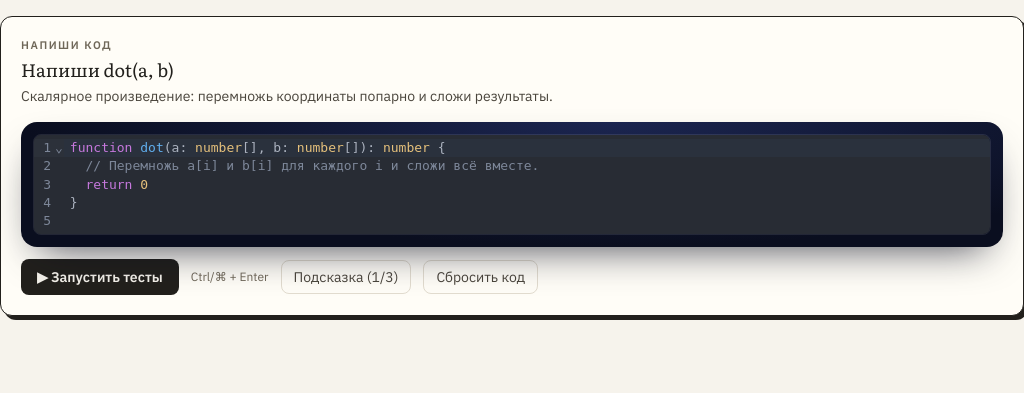
CodeExercise › explains a timeout as a probable infinite loop
Click the button "▶ Запустить тесты": x=100, y=277 [21, 259, 179, 295]
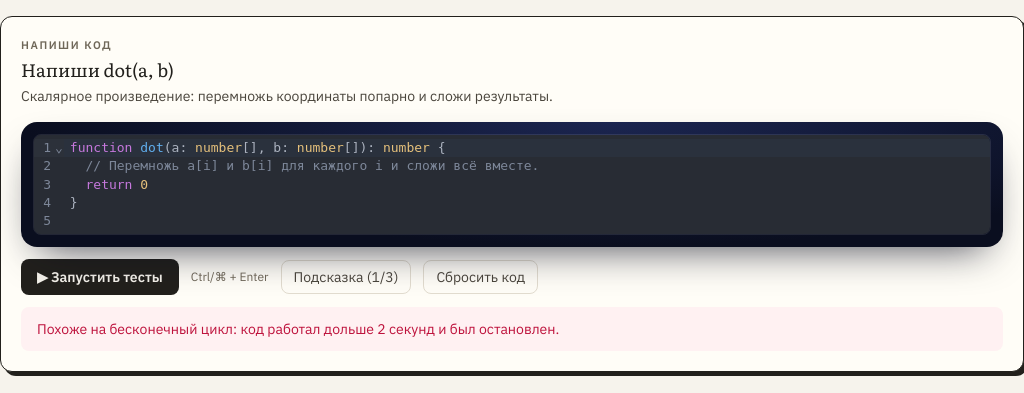
Result: the text "Похоже на бесконечный цикл: код работал дольше 2 секунд и был остановлен." is shown at [21, 307, 1003, 351]
